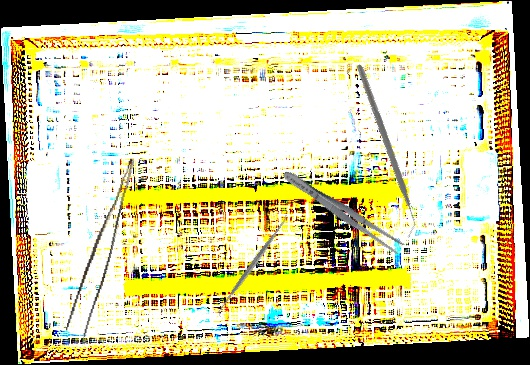Chopper: (292, 63, 476, 239)
Dressing Forceps: (279, 166, 406, 257)
Spatula Surgical: (211, 212, 294, 319)
Tissue Forceps: (64, 152, 136, 340)
